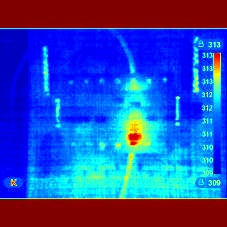High: (116, 112, 153, 154)
